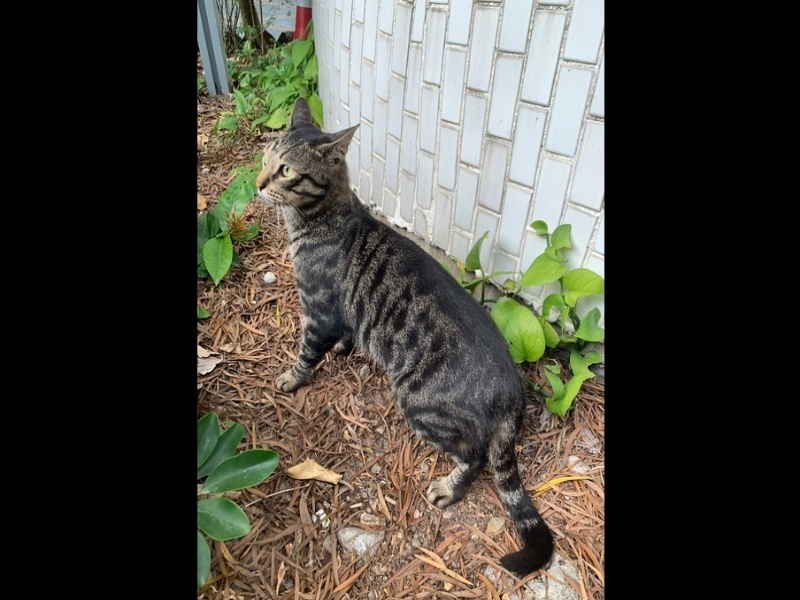cat: (251, 98, 561, 579)
